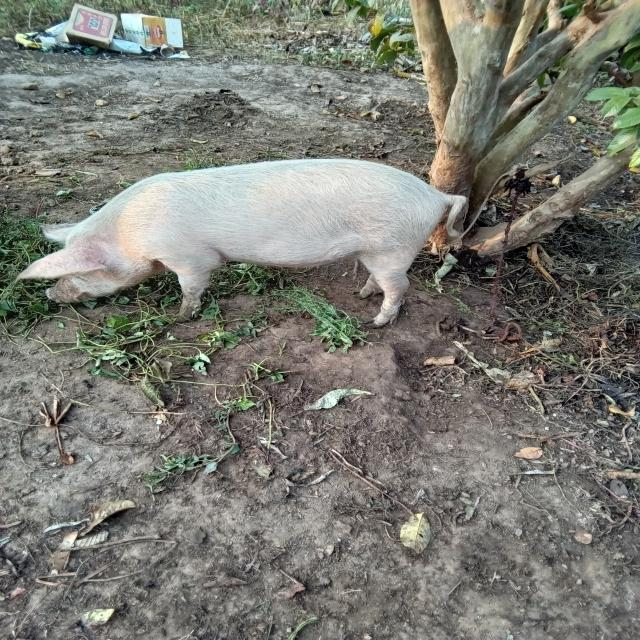pig: (0, 128, 524, 368)
